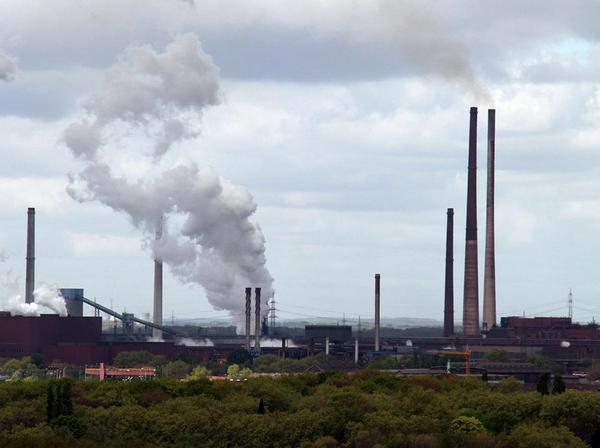dust: (101, 104, 273, 332)
